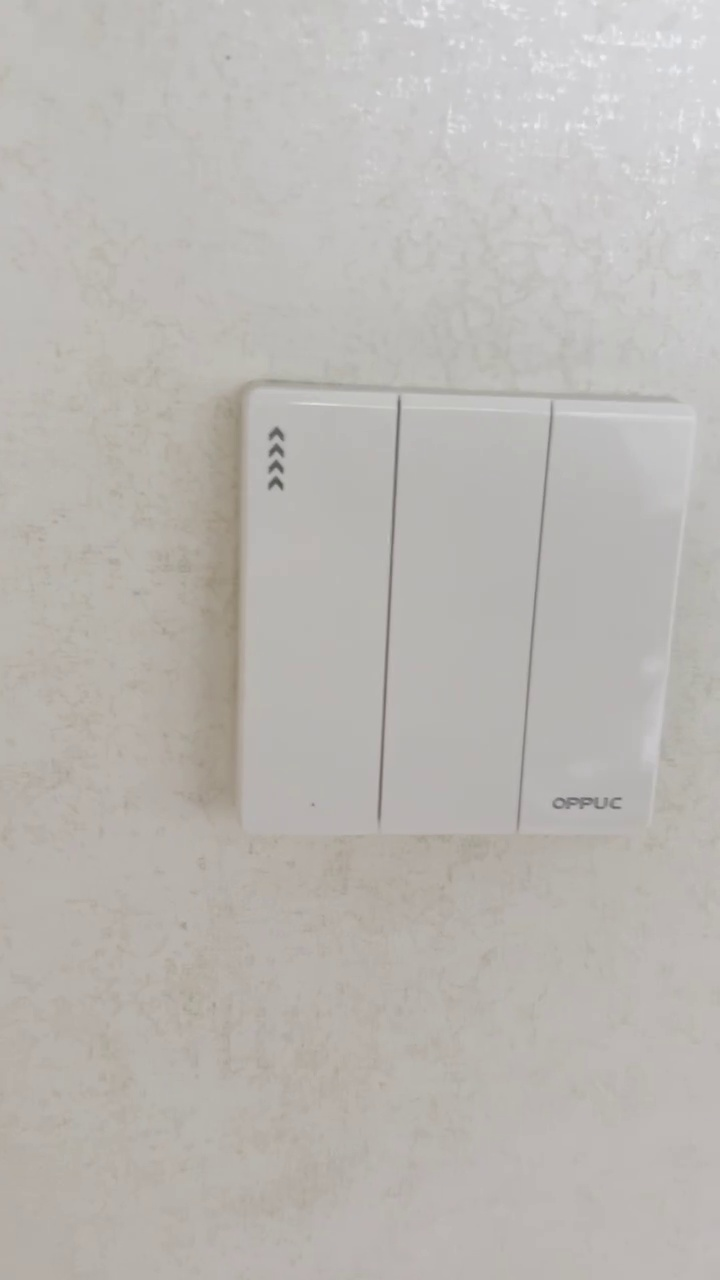button1: (237, 394, 394, 829), (523, 412, 682, 835), (385, 403, 539, 830)
